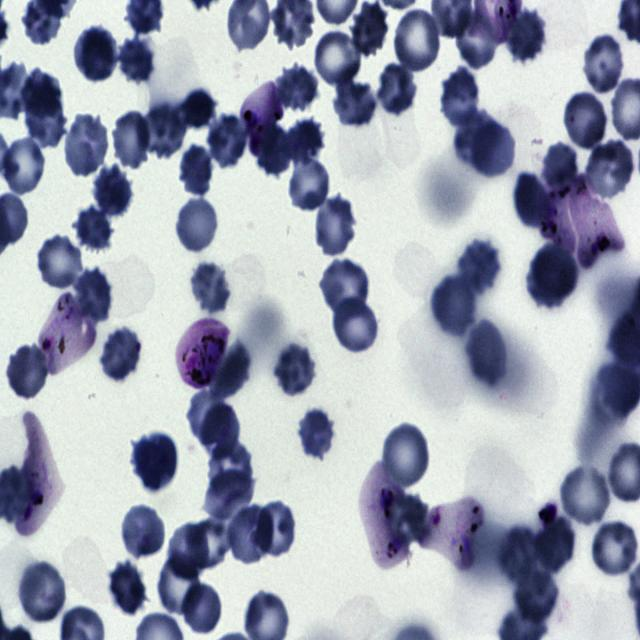gametocyte: (175, 318, 230, 391)
red blood cell: (379, 422, 432, 491), (390, 7, 444, 74), (558, 461, 611, 529), (524, 243, 578, 308), (464, 317, 510, 390), (16, 562, 68, 626), (468, 116, 518, 182), (583, 140, 636, 202), (318, 257, 371, 318), (430, 272, 478, 338), (312, 27, 364, 87), (588, 519, 640, 579), (61, 114, 110, 177), (512, 562, 560, 626), (580, 33, 628, 96), (206, 438, 254, 501), (34, 232, 86, 290), (155, 553, 202, 617), (0, 135, 48, 197), (330, 296, 381, 354), (453, 8, 500, 70), (208, 337, 252, 403), (454, 106, 500, 169), (562, 91, 610, 151), (202, 468, 256, 521), (312, 196, 358, 258), (533, 513, 578, 576), (133, 432, 180, 492), (227, 505, 273, 566), (286, 154, 332, 213), (139, 102, 187, 158), (119, 504, 167, 559), (24, 89, 67, 150), (174, 197, 220, 254), (440, 68, 482, 130), (254, 499, 298, 558), (72, 27, 118, 83), (5, 344, 50, 401), (457, 238, 502, 295), (512, 171, 553, 231), (111, 111, 152, 170), (185, 518, 233, 568), (332, 78, 379, 129), (200, 403, 242, 460), (187, 388, 228, 446), (167, 524, 210, 579), (206, 114, 248, 170), (506, 8, 548, 64), (189, 260, 232, 314), (376, 63, 418, 117), (74, 266, 110, 329), (107, 562, 147, 618), (297, 407, 337, 462), (349, 1, 389, 56), (116, 35, 157, 88), (278, 62, 320, 113), (92, 164, 133, 216), (72, 205, 115, 254), (182, 581, 220, 636), (178, 144, 216, 198), (276, 344, 316, 395), (22, 70, 62, 121), (388, 494, 430, 542), (102, 328, 138, 383), (256, 121, 292, 176), (284, 118, 326, 164), (177, 88, 217, 130), (542, 143, 576, 190)
ring: (15, 411, 62, 539), (421, 496, 485, 570), (39, 295, 96, 376)
trophozoite: (358, 459, 409, 571), (566, 174, 626, 269), (241, 78, 283, 155), (538, 178, 576, 260)
